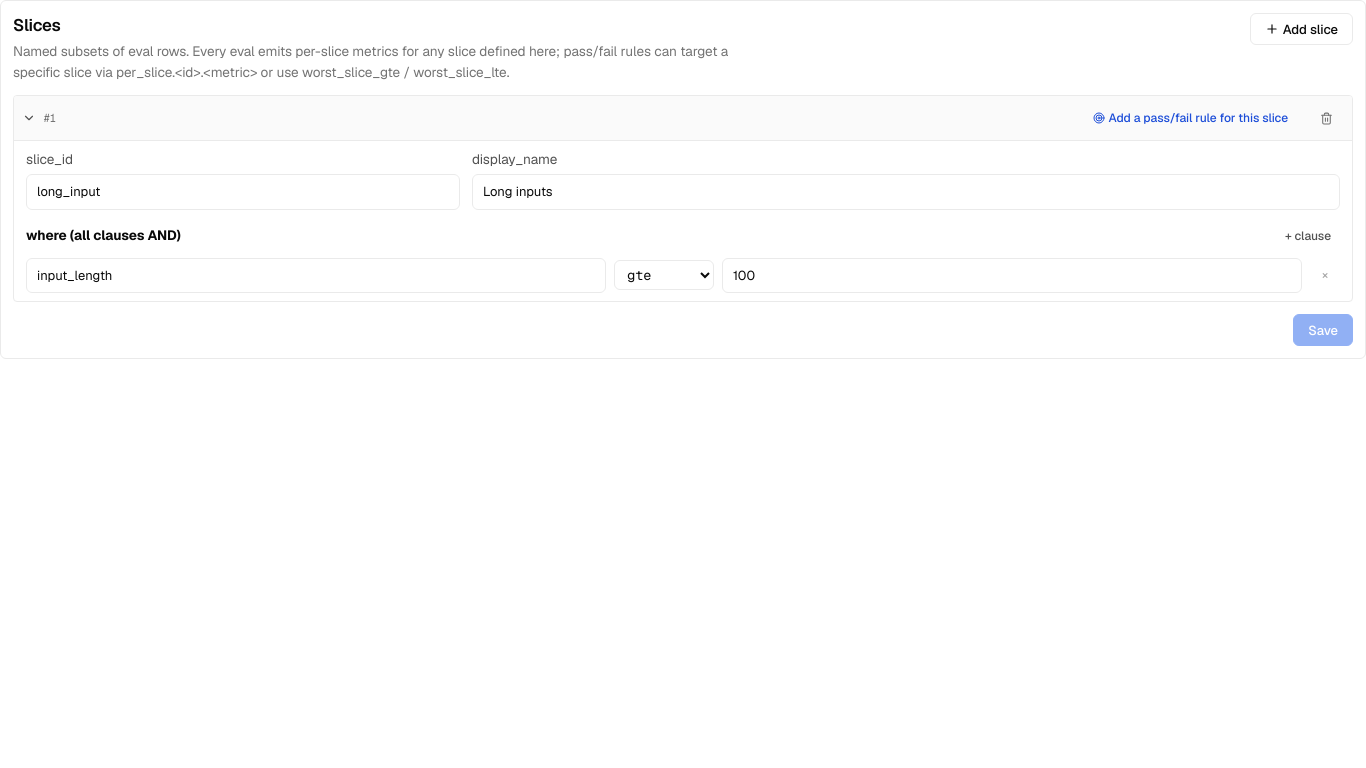
it: SlicesSection › Gate this slice opens a modal with the canonical metric_id
Expected: the field with test id "slices-item-0-id" is shown, [26,174,460,210]
Click the button with test id "slices-gate-long_input" at (1190,118), box [1084,104,1297,132]
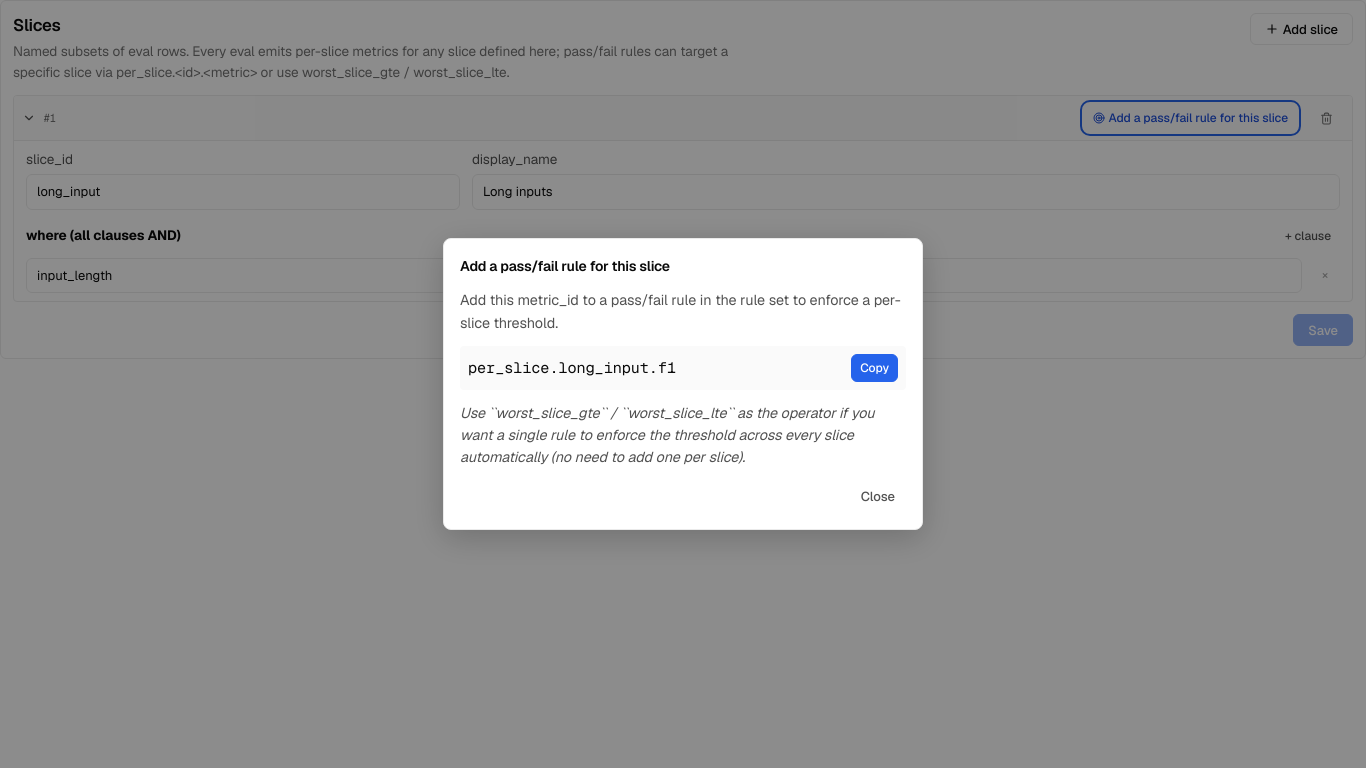
Expected: the text "per_slice.long_input.f1" is shown, [468,358,676,377]
Expected: the text "worst_slice" is shown, [460,404,874,466]
